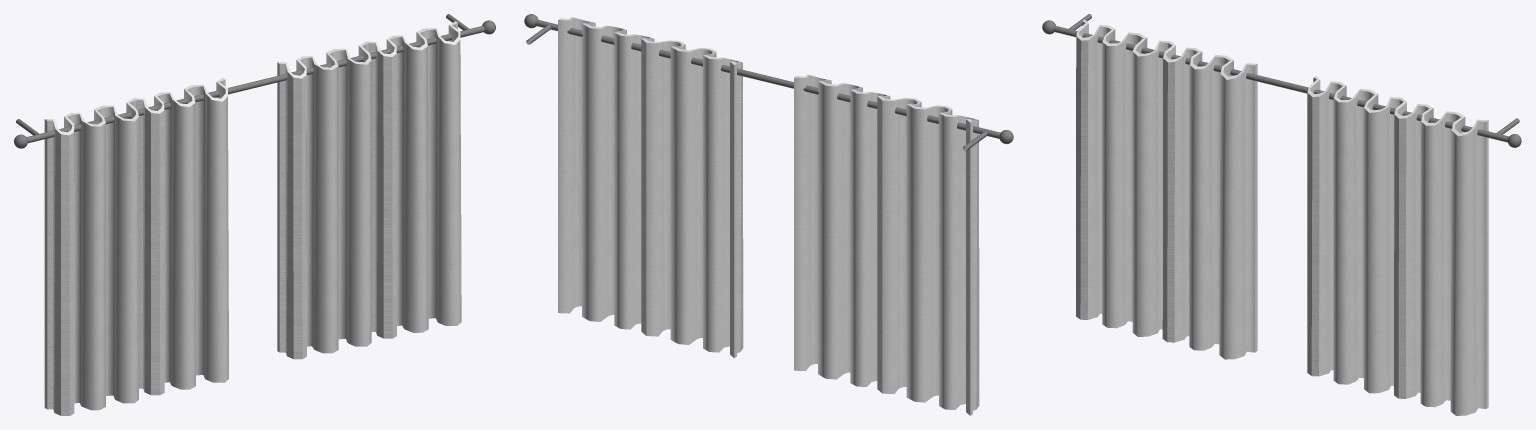
Rendered from Curtain.FBX.
The picture shows the model from 3 angles, left to right: view 1: azimuth 30°, elevation 25°; view 2: azimuth 150°, elevation 25°; view 3: azimuth 330°, elevation 25°; orthographic projection. The views are drawn at different scales.
Visible parts, largest first — view 1: Curtain; view 2: Curtain; view 3: Curtain.
Part boxes in pixels (x1=…): Curtain: x1=14, y1=14, x2=495, y2=415; Curtain: x1=524, y1=14, x2=1013, y2=415; Curtain: x1=1042, y1=14, x2=1521, y2=415.
Size of the model in its own units: 226 by 130 by 28.8.
Materials: 2 (2 with a texture image).
